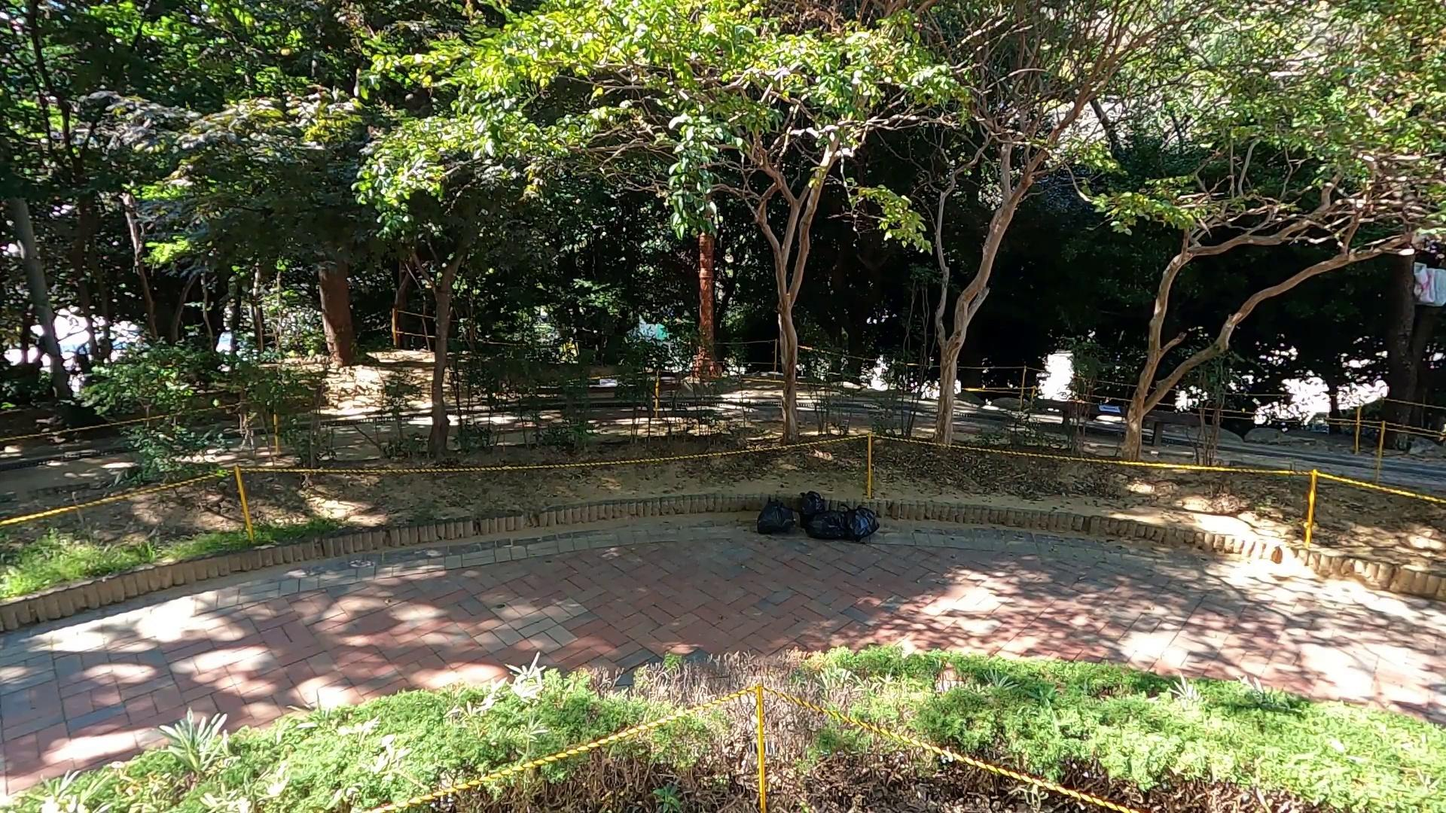trash: (758, 484, 796, 536), (792, 483, 829, 533), (838, 500, 876, 540), (802, 509, 843, 543)
